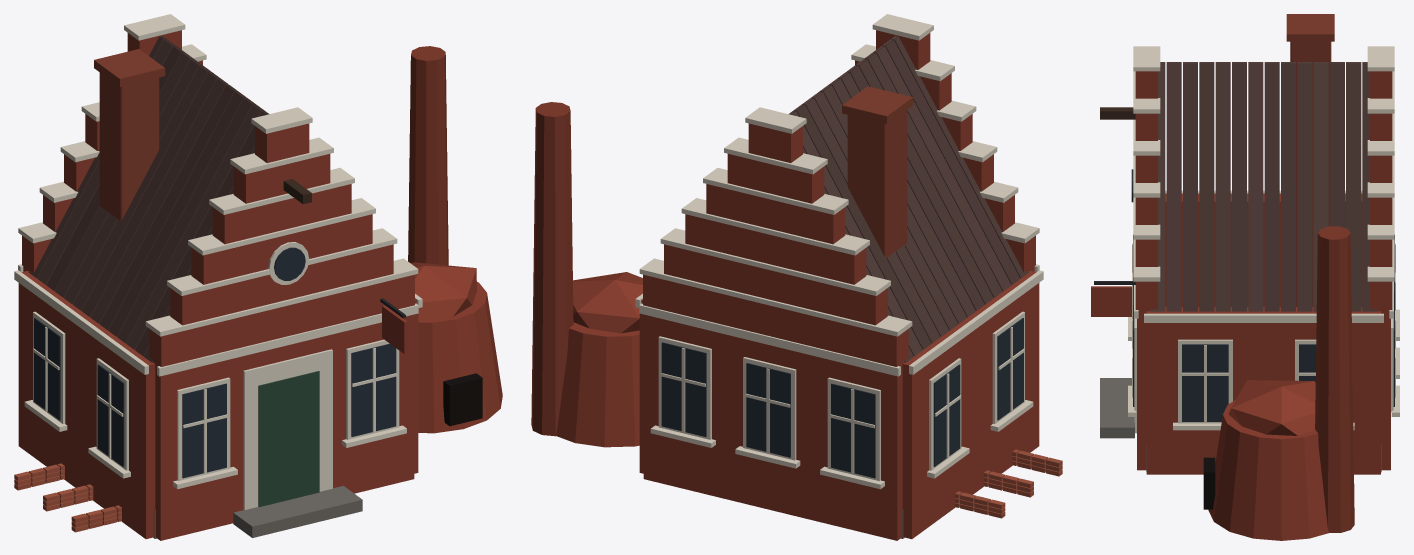
Rendered from brickworks_3.glb.
3 renders of one model, left to right at view 1: azimuth 30°, elevation 25°; view 2: azimuth 150°, elevation 25°; view 3: azimuth 270°, elevation 25°, orthographic. The views are drawn at different scales.
Parts seen in each view (by area): view 1: brickworks3_brick, brickworks3_tiles, brickworks3_stone, brickworks3_wood, brickworks3_glass, brickworks3_soot; view 2: brickworks3_brick, brickworks3_tiles, brickworks3_stone, brickworks3_glass, brickworks3_wood; view 3: brickworks3_brick, brickworks3_tiles, brickworks3_stone, brickworks3_glass, brickworks3_wood, brickworks3_soot.
Boxes of the visible parts, x1,y1,x2,y2 form: brickworks3_brick: (14,30,502,540); brickworks3_tiles: (28,35,269,362); brickworks3_stone: (14,14,422,538); brickworks3_wood: (33,179,407,507); brickworks3_glass: (34,247,396,478); brickworks3_soot: (443,373,482,426); brickworks3_brick: (531,30,1062,540); brickworks3_tiles: (788,35,1029,362); brickworks3_stone: (635,14,1043,538); brickworks3_glass: (661,318,1023,478); brickworks3_wood: (658,311,1024,480); brickworks3_brick: (1135,14,1392,540); brickworks3_tiles: (1150,62,1377,311); brickworks3_stone: (1100,46,1399,472); brickworks3_glass: (1131,169,1394,421); brickworks3_wood: (1091,107,1395,423); brickworks3_soot: (1203,457,1215,509).
Size of the model in its own units: 8.47 by 6.83 by 5.27.
